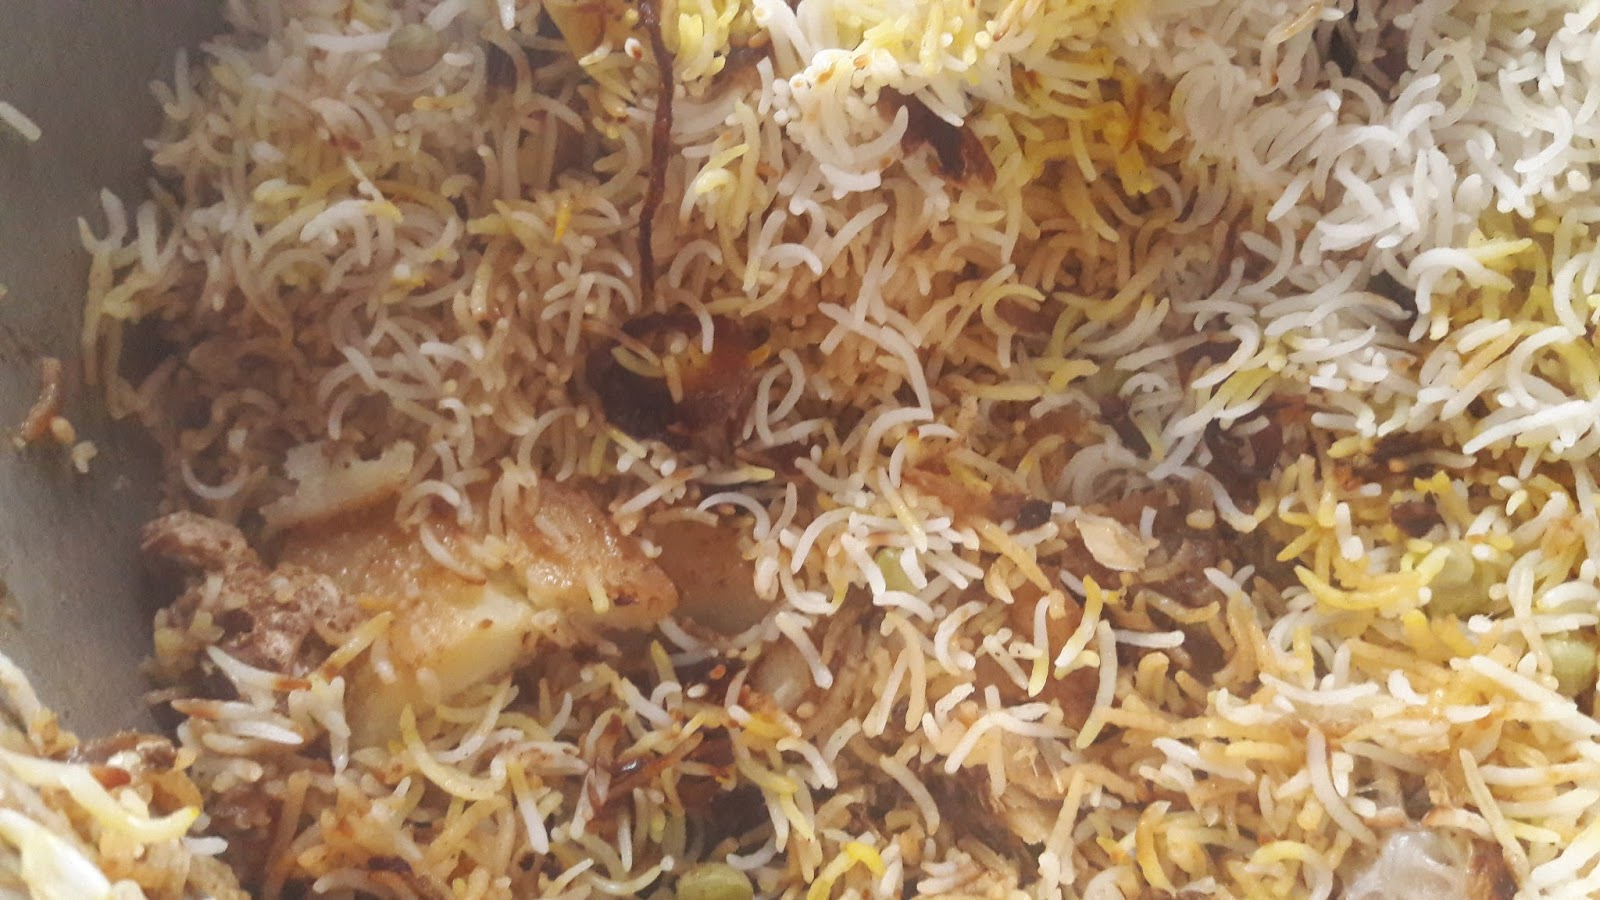Biryani: (43, 51, 1581, 877)
